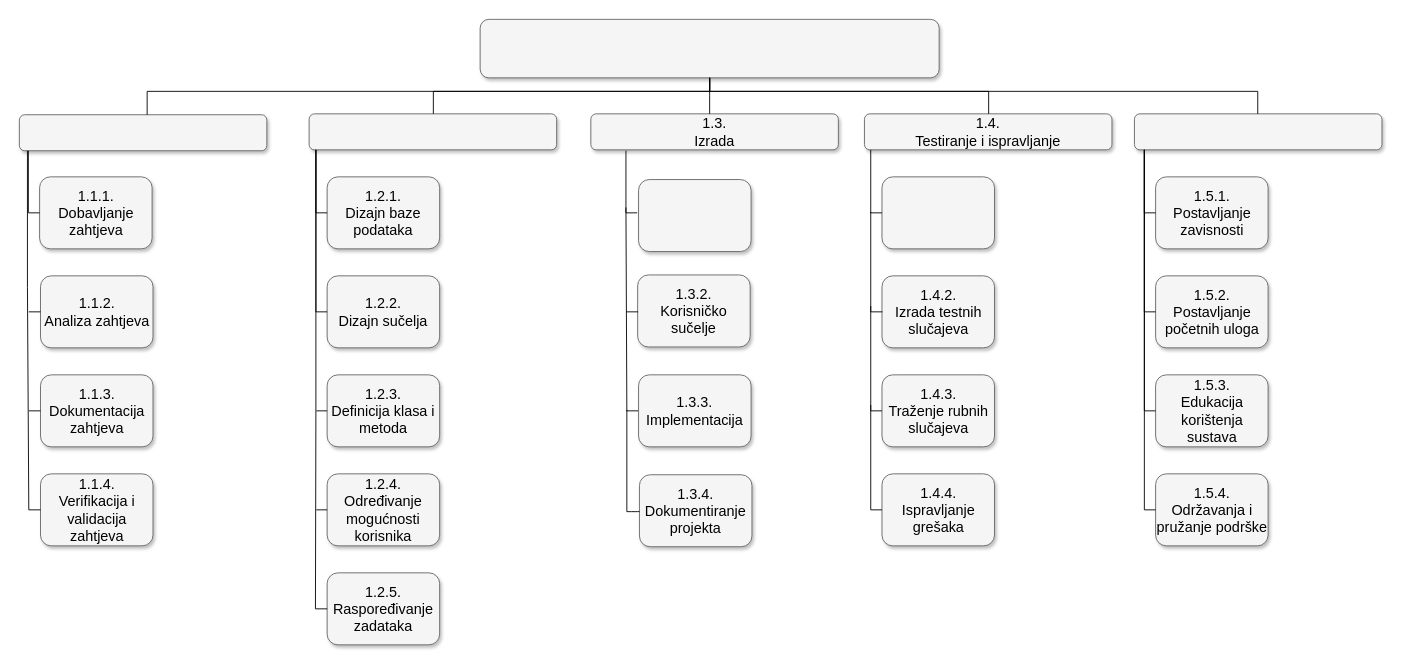
Some shapes in this 1403 by 667 pixel diagram are drawn without their labels. The centre of each missing label's shape, as x and y in pixels:
"1 Evidencija i administracija radnika" belongs at (710,49).
"1.1. Inženjerstvo zahtjeva" belongs at (143,133).
"1.2. Planiranje" belongs at (433,132).
"1.3.1. Izrada osnovnih zahtjeva" belongs at (695,216).
"1.4.1. Testiranje baze podataka" belongs at (939,213).
"1.5. Implementacija i održavanje" belongs at (1258,132).
